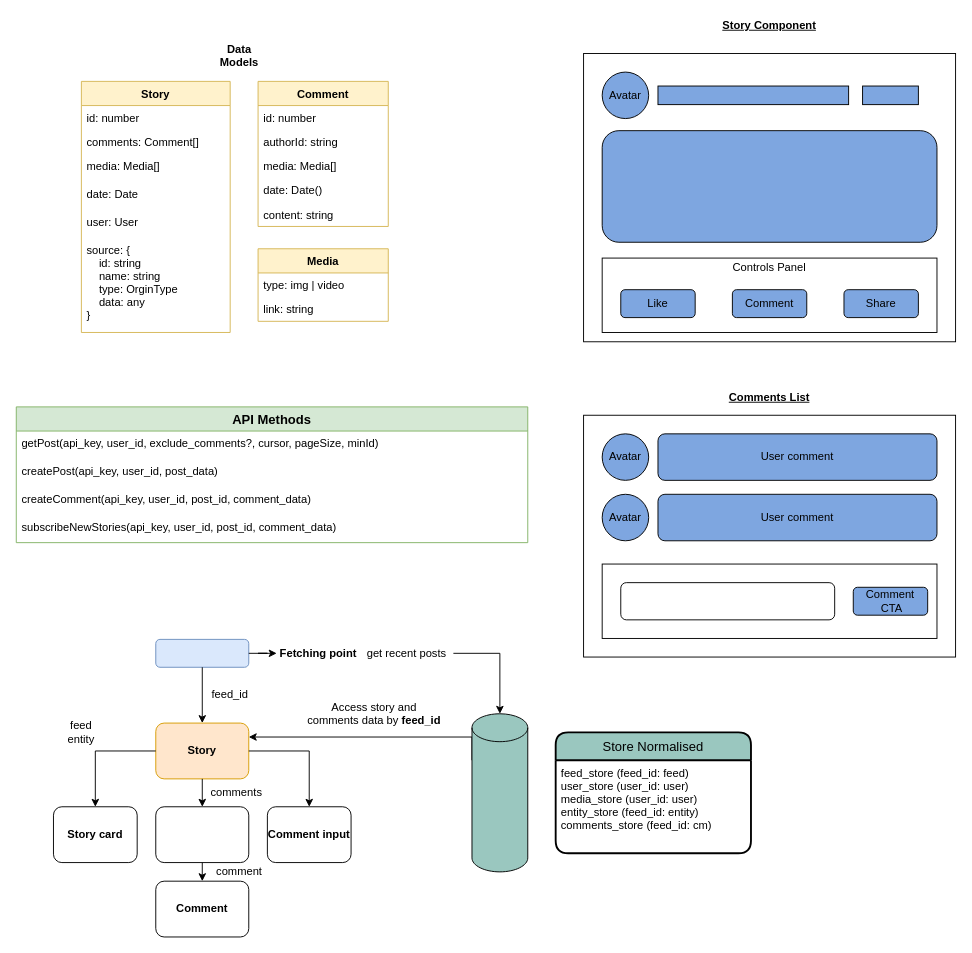
Image size: 972x953. Some labels were removed from this diagram. The centre of each missing label's shape, as x and y in pixels:
5h: point (890, 95)
Comment Input Box: point (727, 601)
Comment list: point (202, 834)
Name: point (753, 95)
News feed: point (202, 652)
Store: point (499, 792)
Text and Image Content: point (769, 186)
